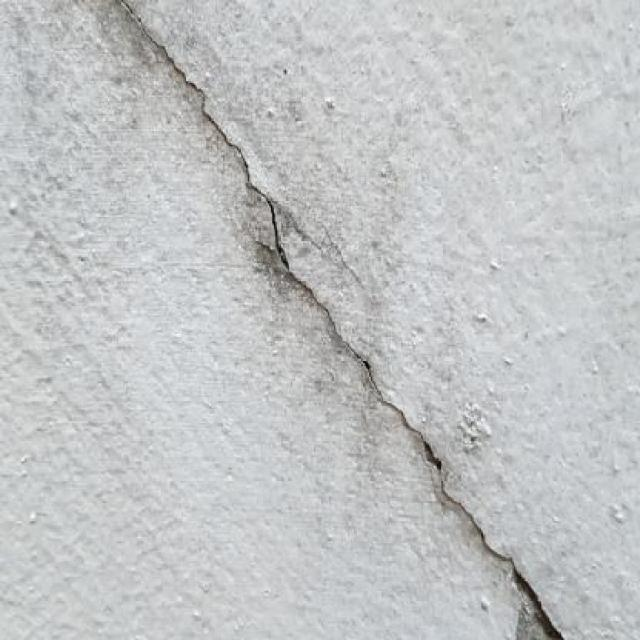diagonal crack: (172, 64, 564, 639)
